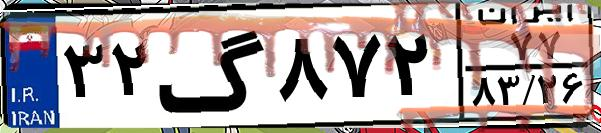2: (385, 28, 445, 110), (110, 28, 156, 98), (535, 70, 560, 125)
3: (57, 26, 110, 100), (495, 70, 520, 125)
6: (560, 70, 590, 125)
7: (330, 28, 385, 110), (537, 27, 568, 80), (508, 27, 537, 80)
8: (270, 28, 330, 110), (470, 70, 495, 125)
گ: (156, 12, 270, 120)
